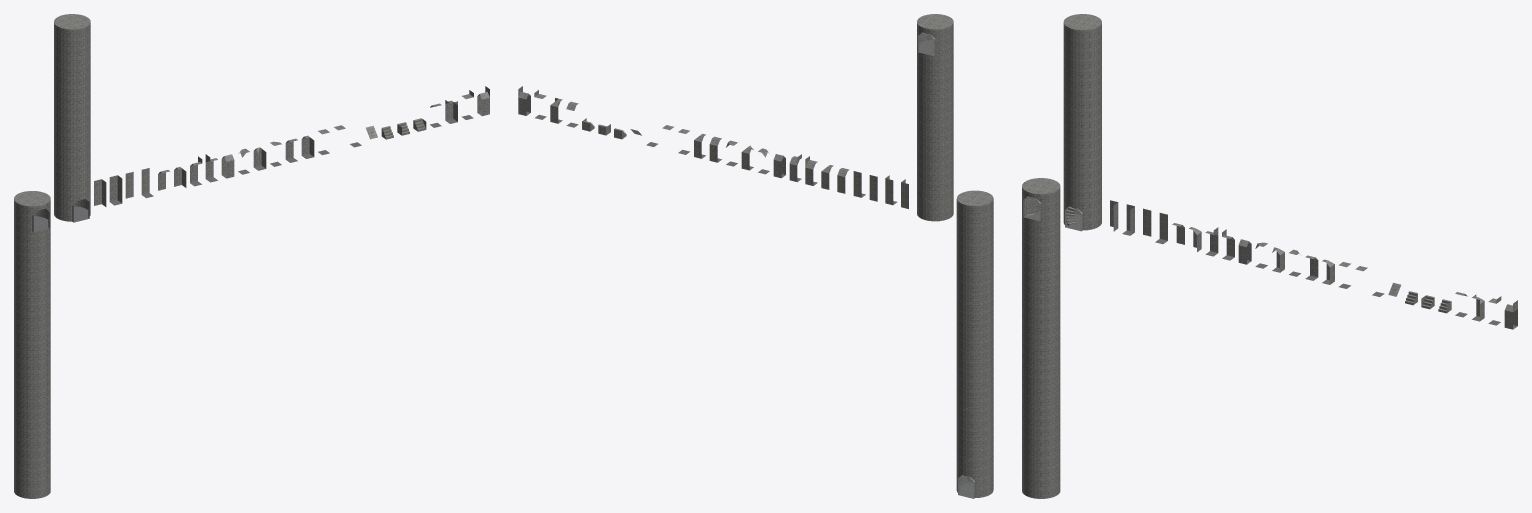
Rendered from tileset_new.glb.
3 views of the same model, side by side, from view 1: azimuth 30°, elevation 25°; view 2: azimuth 150°, elevation 25°; view 3: azimuth 330°, elevation 25° (orthographic). The views are drawn at different scales.
Visible parts, largest first — view 1: staircase-down-col, staircase--up-col; view 2: staircase-down-col, staircase--up-col; view 3: staircase-down-col, staircase--up-col.
Part boxes in pixels (bbox=[...]): staircase-down-col: bbox=[14, 191, 50, 498]; staircase--up-col: bbox=[54, 14, 90, 222]; staircase-down-col: bbox=[956, 190, 993, 498]; staircase--up-col: bbox=[917, 14, 953, 221]; staircase-down-col: bbox=[1022, 178, 1060, 498]; staircase--up-col: bbox=[1063, 14, 1101, 231].
Size of the model in its own units: 59 by 55.01 by 4.02.
4 materials, 4 textured.
